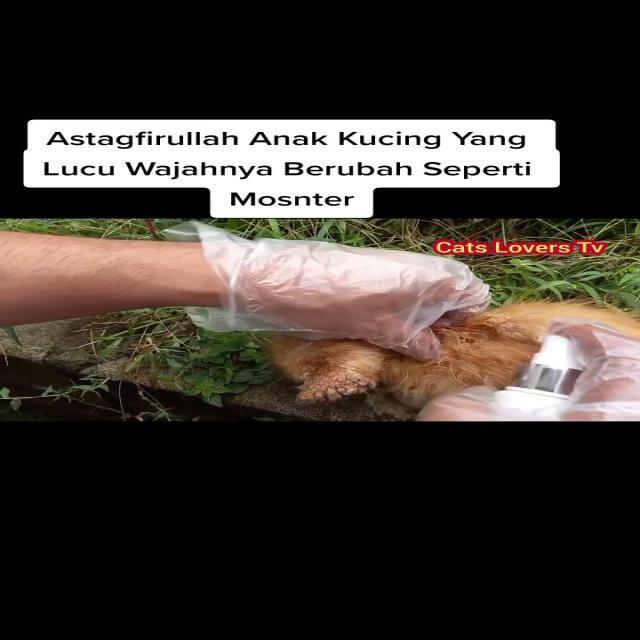ghe: (288, 362, 378, 409)
